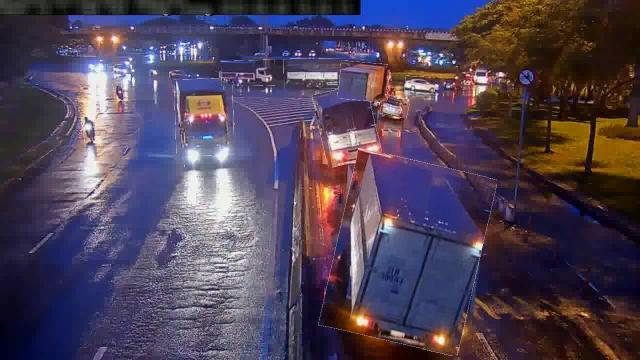Bike: (82, 116, 95, 142), (114, 82, 122, 102)
Car: (381, 95, 409, 117), (405, 76, 435, 92)
Truck: (328, 154, 488, 349), (316, 86, 378, 166), (174, 79, 233, 157), (284, 58, 352, 90), (339, 62, 389, 102), (221, 60, 275, 86)
